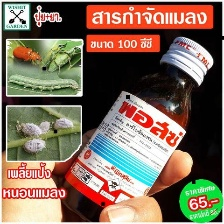insecticide: (55, 33, 215, 223)
